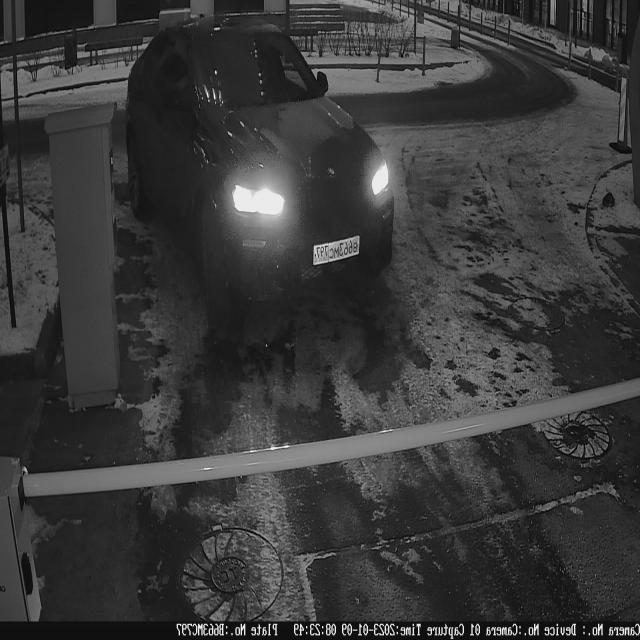car-plate-numbers: (311, 230, 364, 275)
